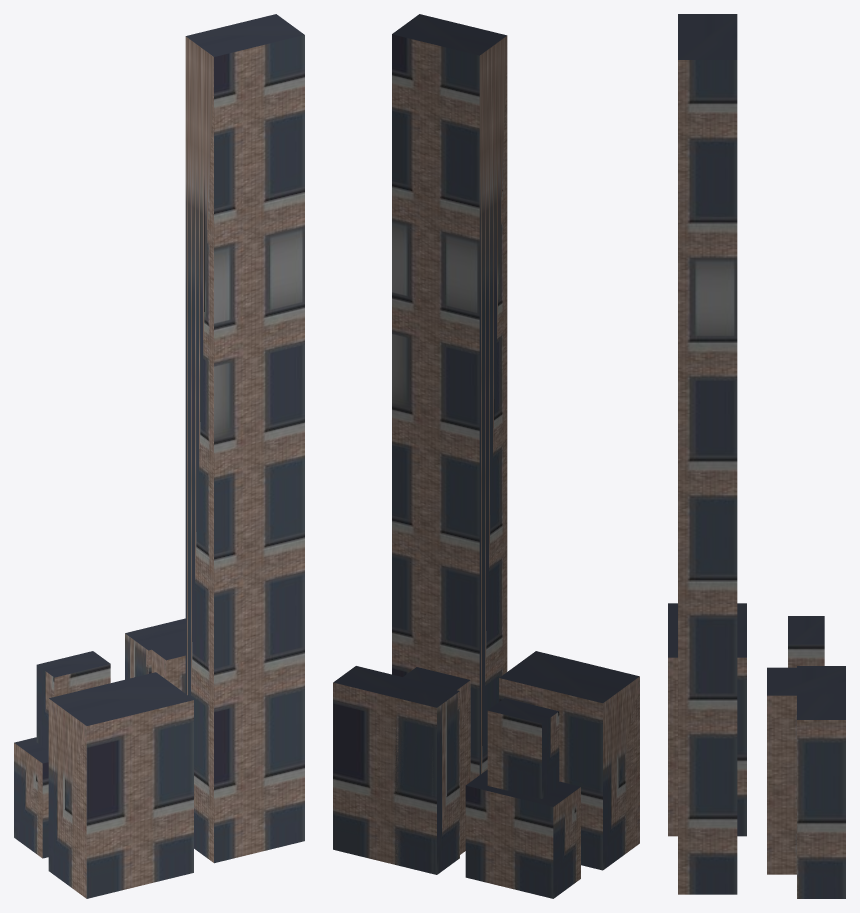
File: city_block_12345_6_35.glb
3 renders of one model, left to right at view 1: azimuth 30°, elevation 25°; view 2: azimuth 150°, elevation 25°; view 3: azimuth 270°, elevation 25°, orthographic. The views are drawn at different scales.
Parts seen in each view (by area): view 1: block_35; view 2: block_35; view 3: block_35.
Part boxes in pixels (bbox=[...]): block_35: bbox=[14, 14, 304, 898]; block_35: bbox=[333, 14, 639, 898]; block_35: bbox=[668, 14, 845, 898].
Size of the model in its own units: 4.2 by 14 by 2.7.
4 materials, 4 textured.
